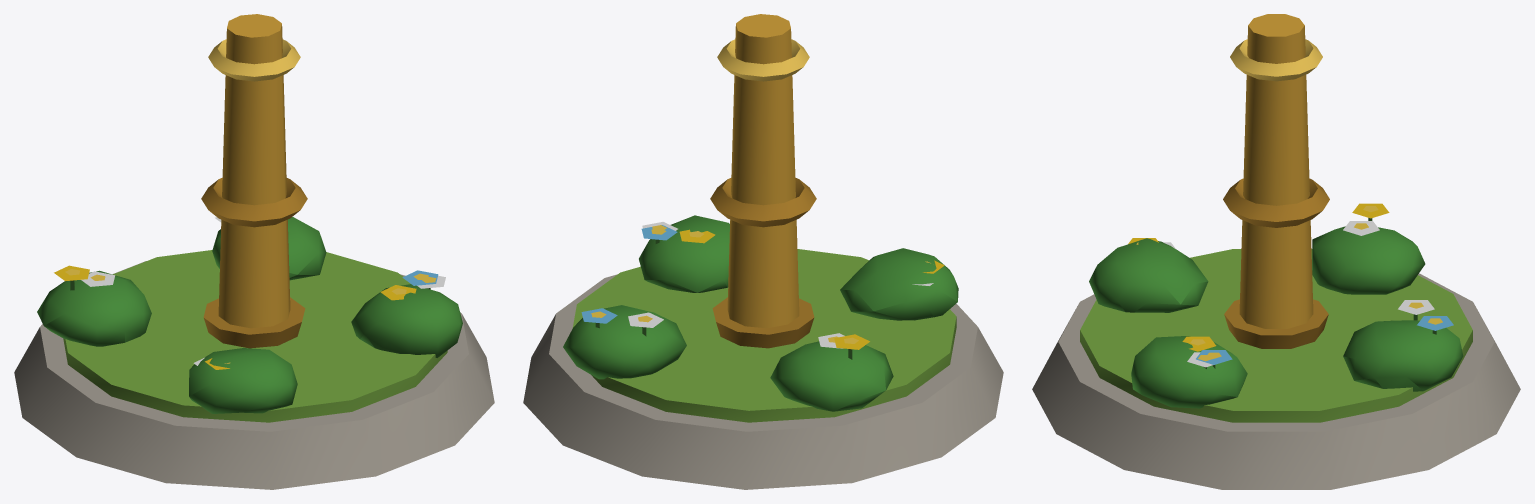
The model's file is relic-golden_sprinkler.glb.
3 views of the same model, side by side, from view 1: azimuth 30°, elevation 25°; view 2: azimuth 150°, elevation 25°; view 3: azimuth 270°, elevation 25° (orthographic).
Visible parts, largest first — view 1: decor-golden_sprinkler; view 2: decor-golden_sprinkler; view 3: decor-golden_sprinkler.
Boxes of the visible parts, <box> form: decor-golden_sprinkler: <box>14,14,494,489</box>; decor-golden_sprinkler: <box>523,14,1003,489</box>; decor-golden_sprinkler: <box>1032,14,1520,489</box>.
Size of the model in its own units: 1.09 by 1.03 by 1.12.
